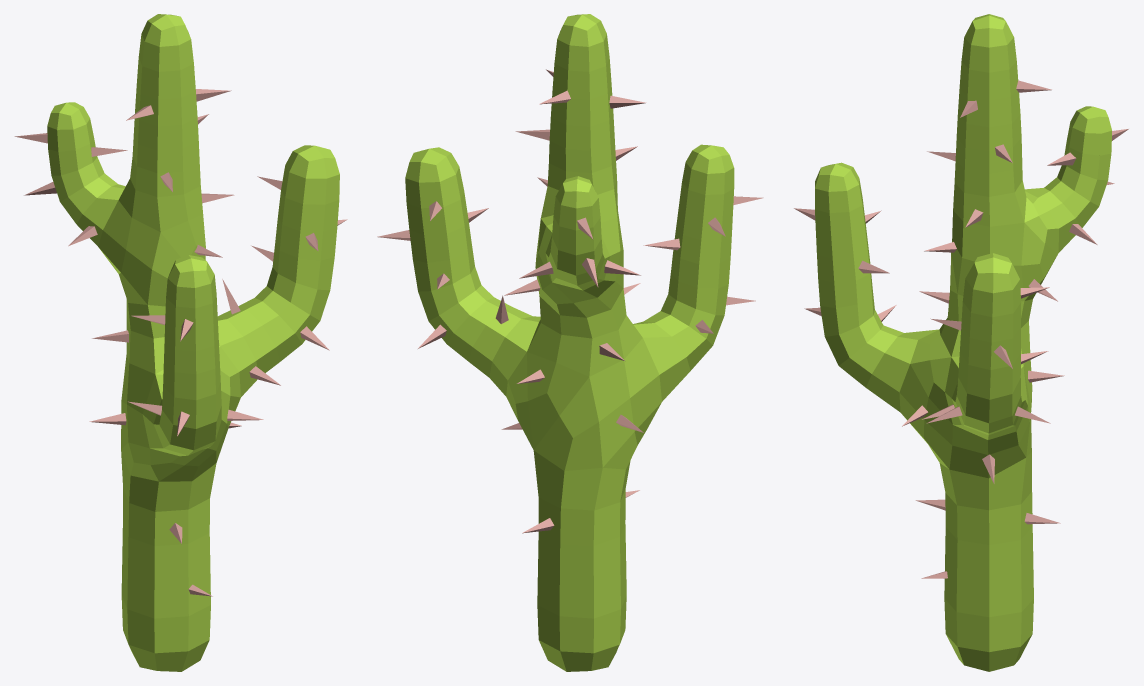
The model's file is ENV_Cactus01_Placeholder02.fbx.
3 renders of one model, left to right at view 1: azimuth 30°, elevation 25°; view 2: azimuth 150°, elevation 25°; view 3: azimuth 270°, elevation 25°, orthographic.
Visible parts, largest first — view 1: Plane.001; view 2: Plane.001; view 3: Plane.001.
Boxes of the visible parts, bbox=[...] form: Plane.001: bbox=[14, 14, 347, 671]; Plane.001: bbox=[377, 14, 763, 671]; Plane.001: bbox=[794, 14, 1128, 671].
Size of the model in its own units: 171 by 166 by 367.
